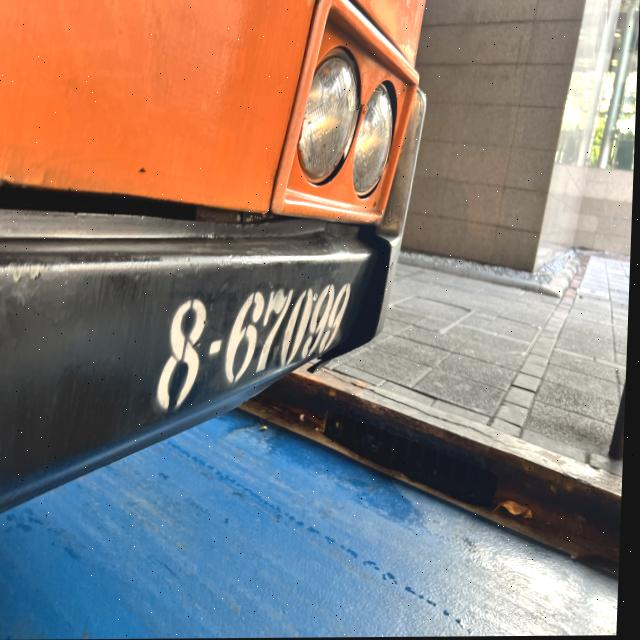BMTA-bus: (0, 0, 432, 532)
